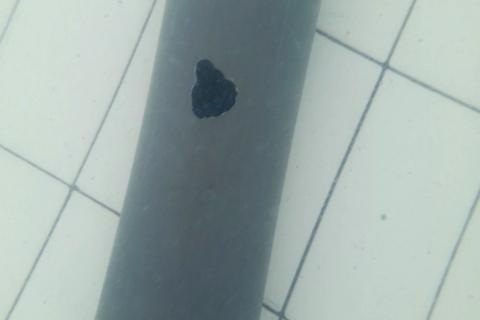kebocoran: (189, 58, 239, 122)
